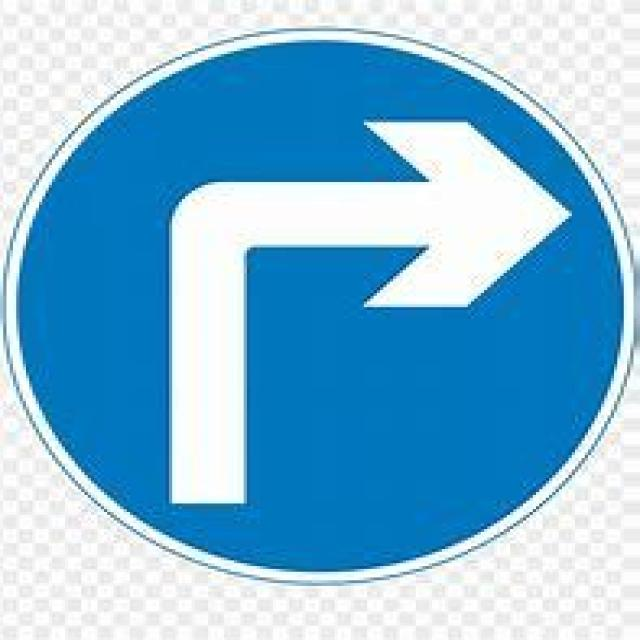COMPULSARY_TURN_RIGHT_AHEAD: (6, 29, 640, 584)
